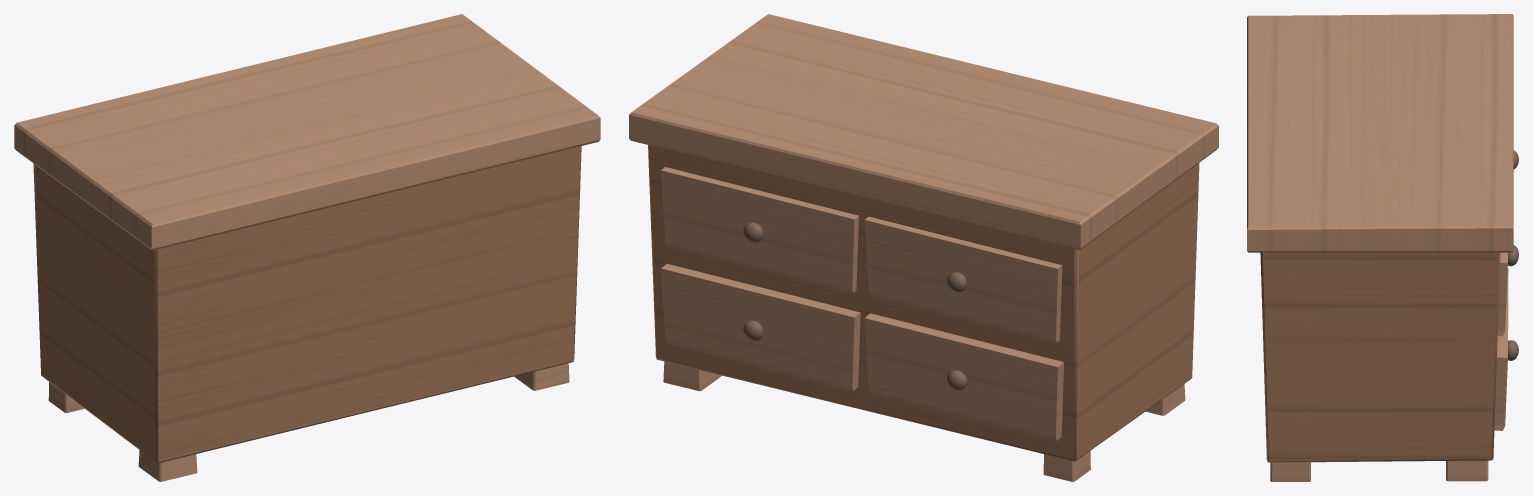
Rendered from Drawer.fbx.
3 views of the same model, side by side, from view 1: azimuth 30°, elevation 25°; view 2: azimuth 150°, elevation 25°; view 3: azimuth 270°, elevation 25° (orthographic). The views are drawn at different scales.
Parts seen in each view (by area): view 1: Drawers; view 2: Drawers; view 3: Drawers.
Part boxes in pixels (bbox=[...]): Drawers: bbox=[14, 14, 600, 481]; Drawers: bbox=[629, 14, 1218, 481]; Drawers: bbox=[1247, 14, 1518, 481].
Size of the model in its own units: 196 by 114 by 106.
1 material, 1 textured.
